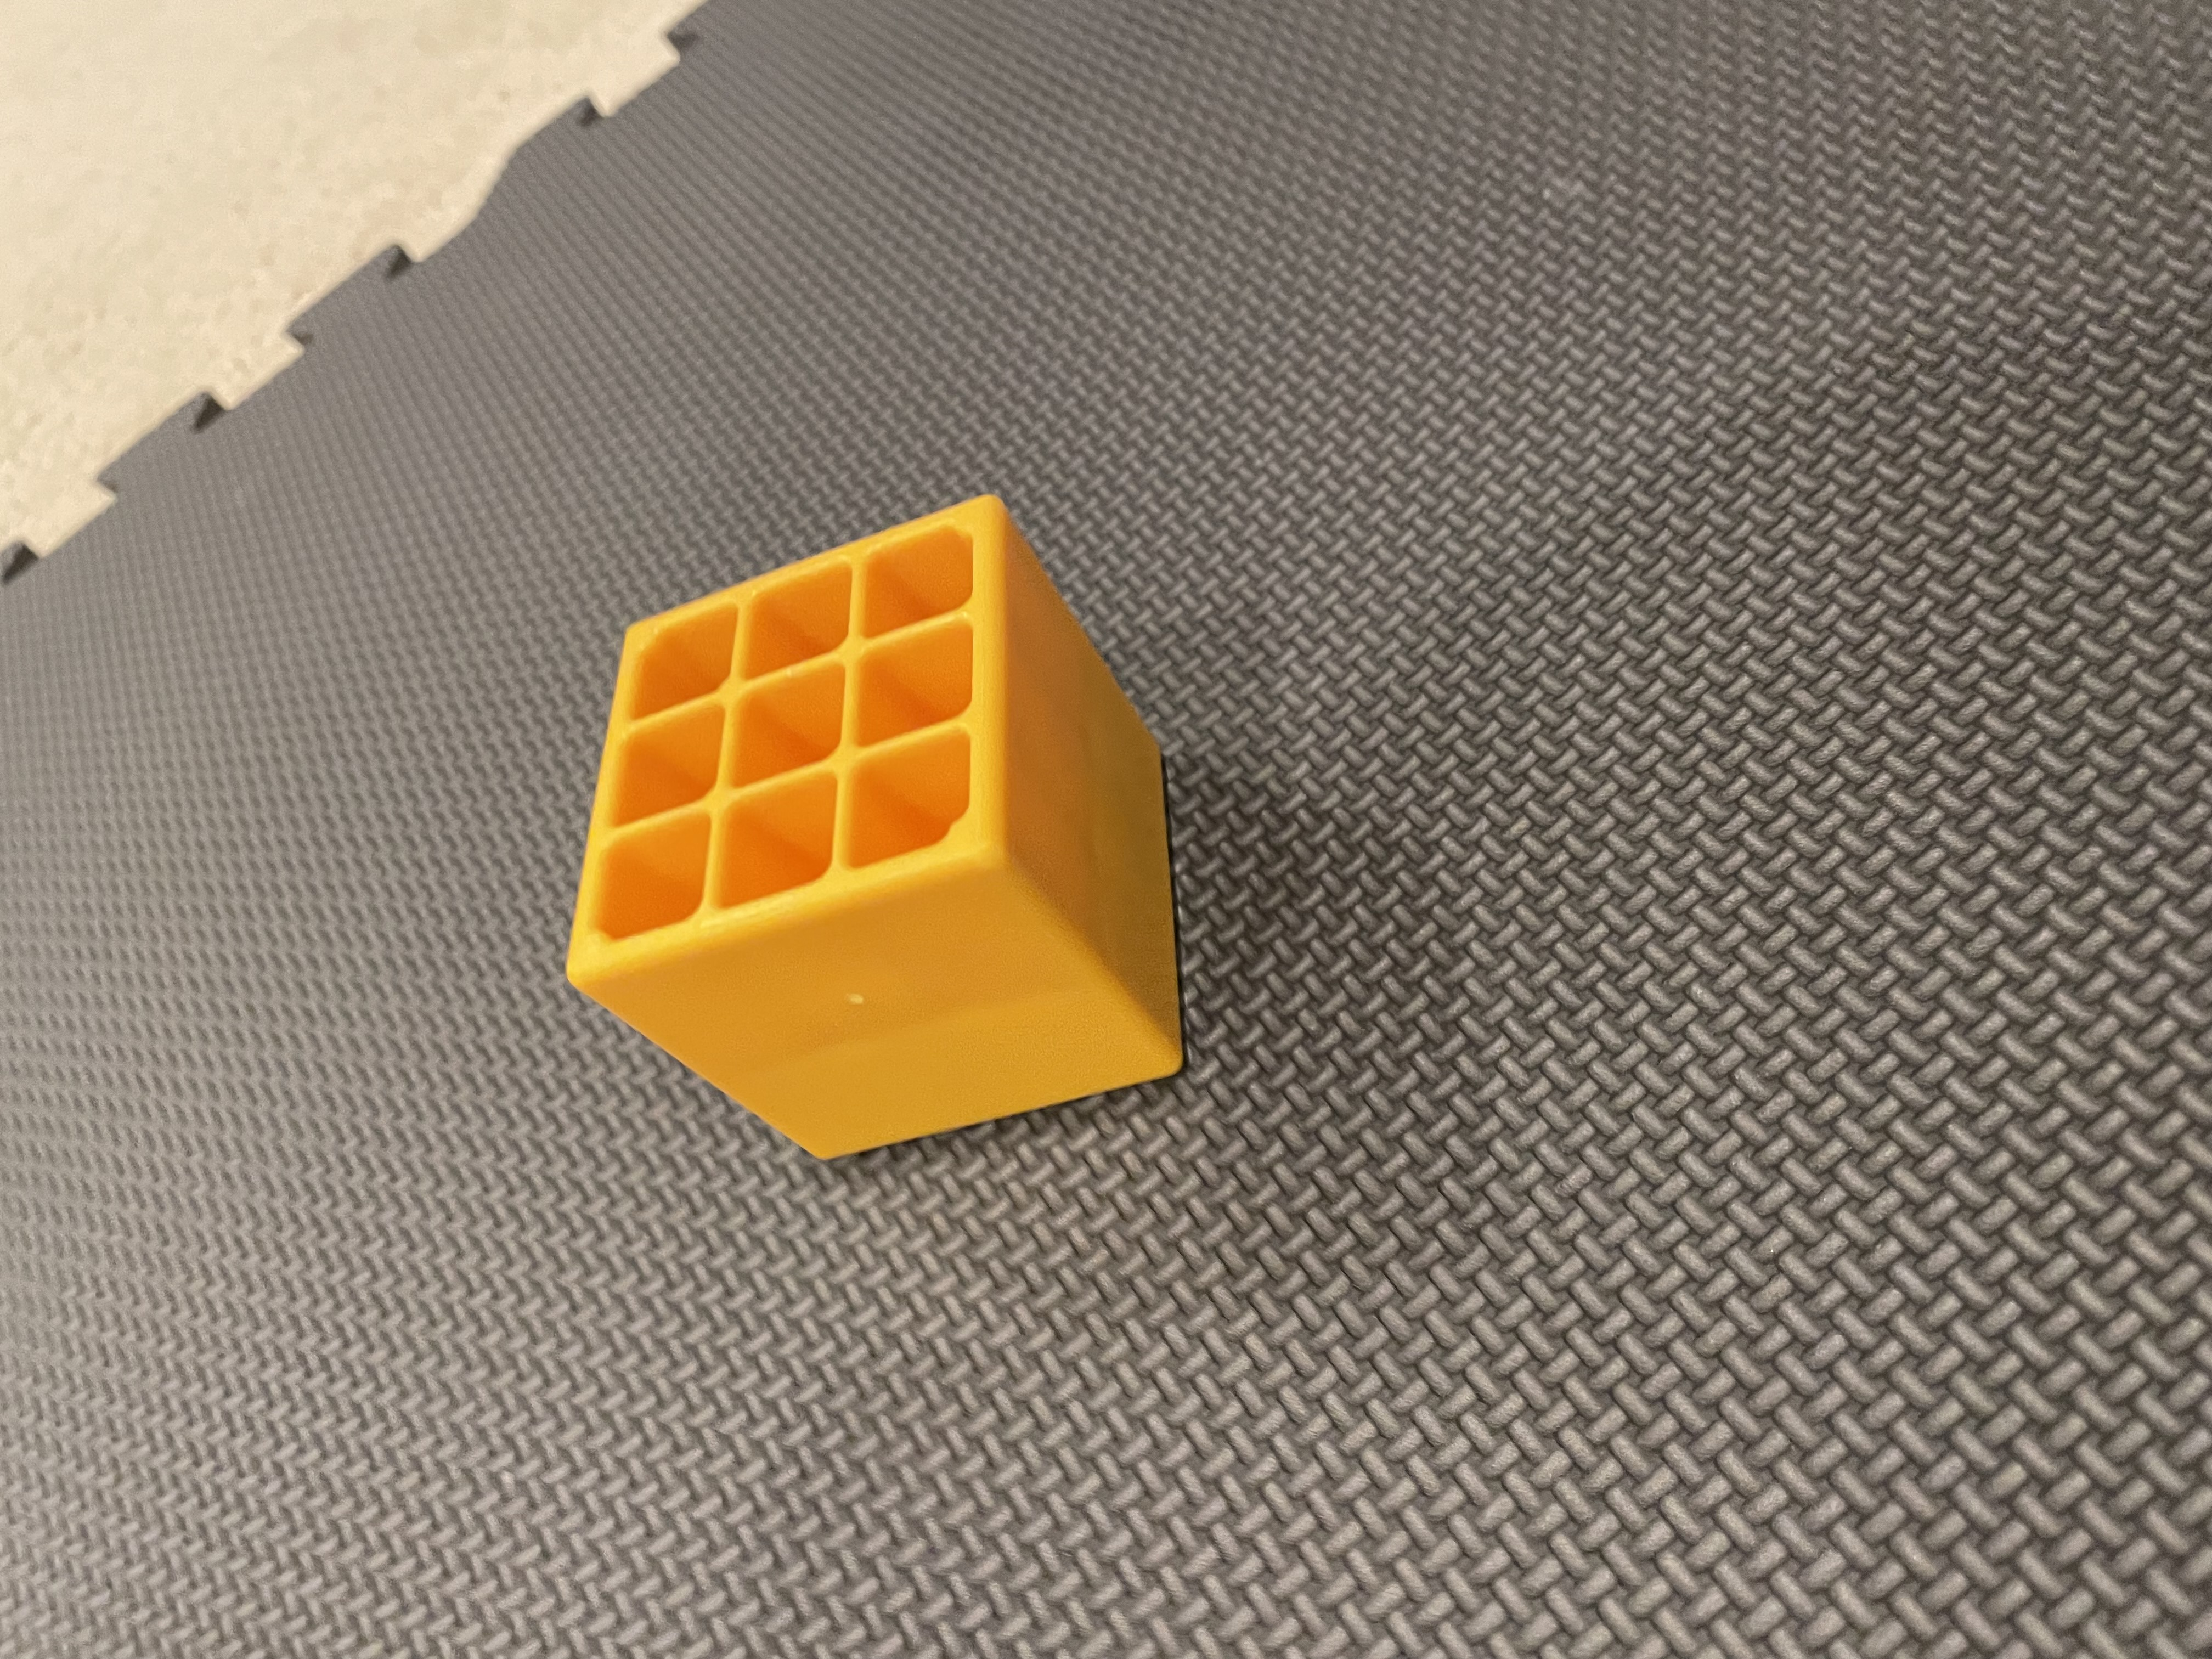cube: (460, 441, 1275, 1199)
